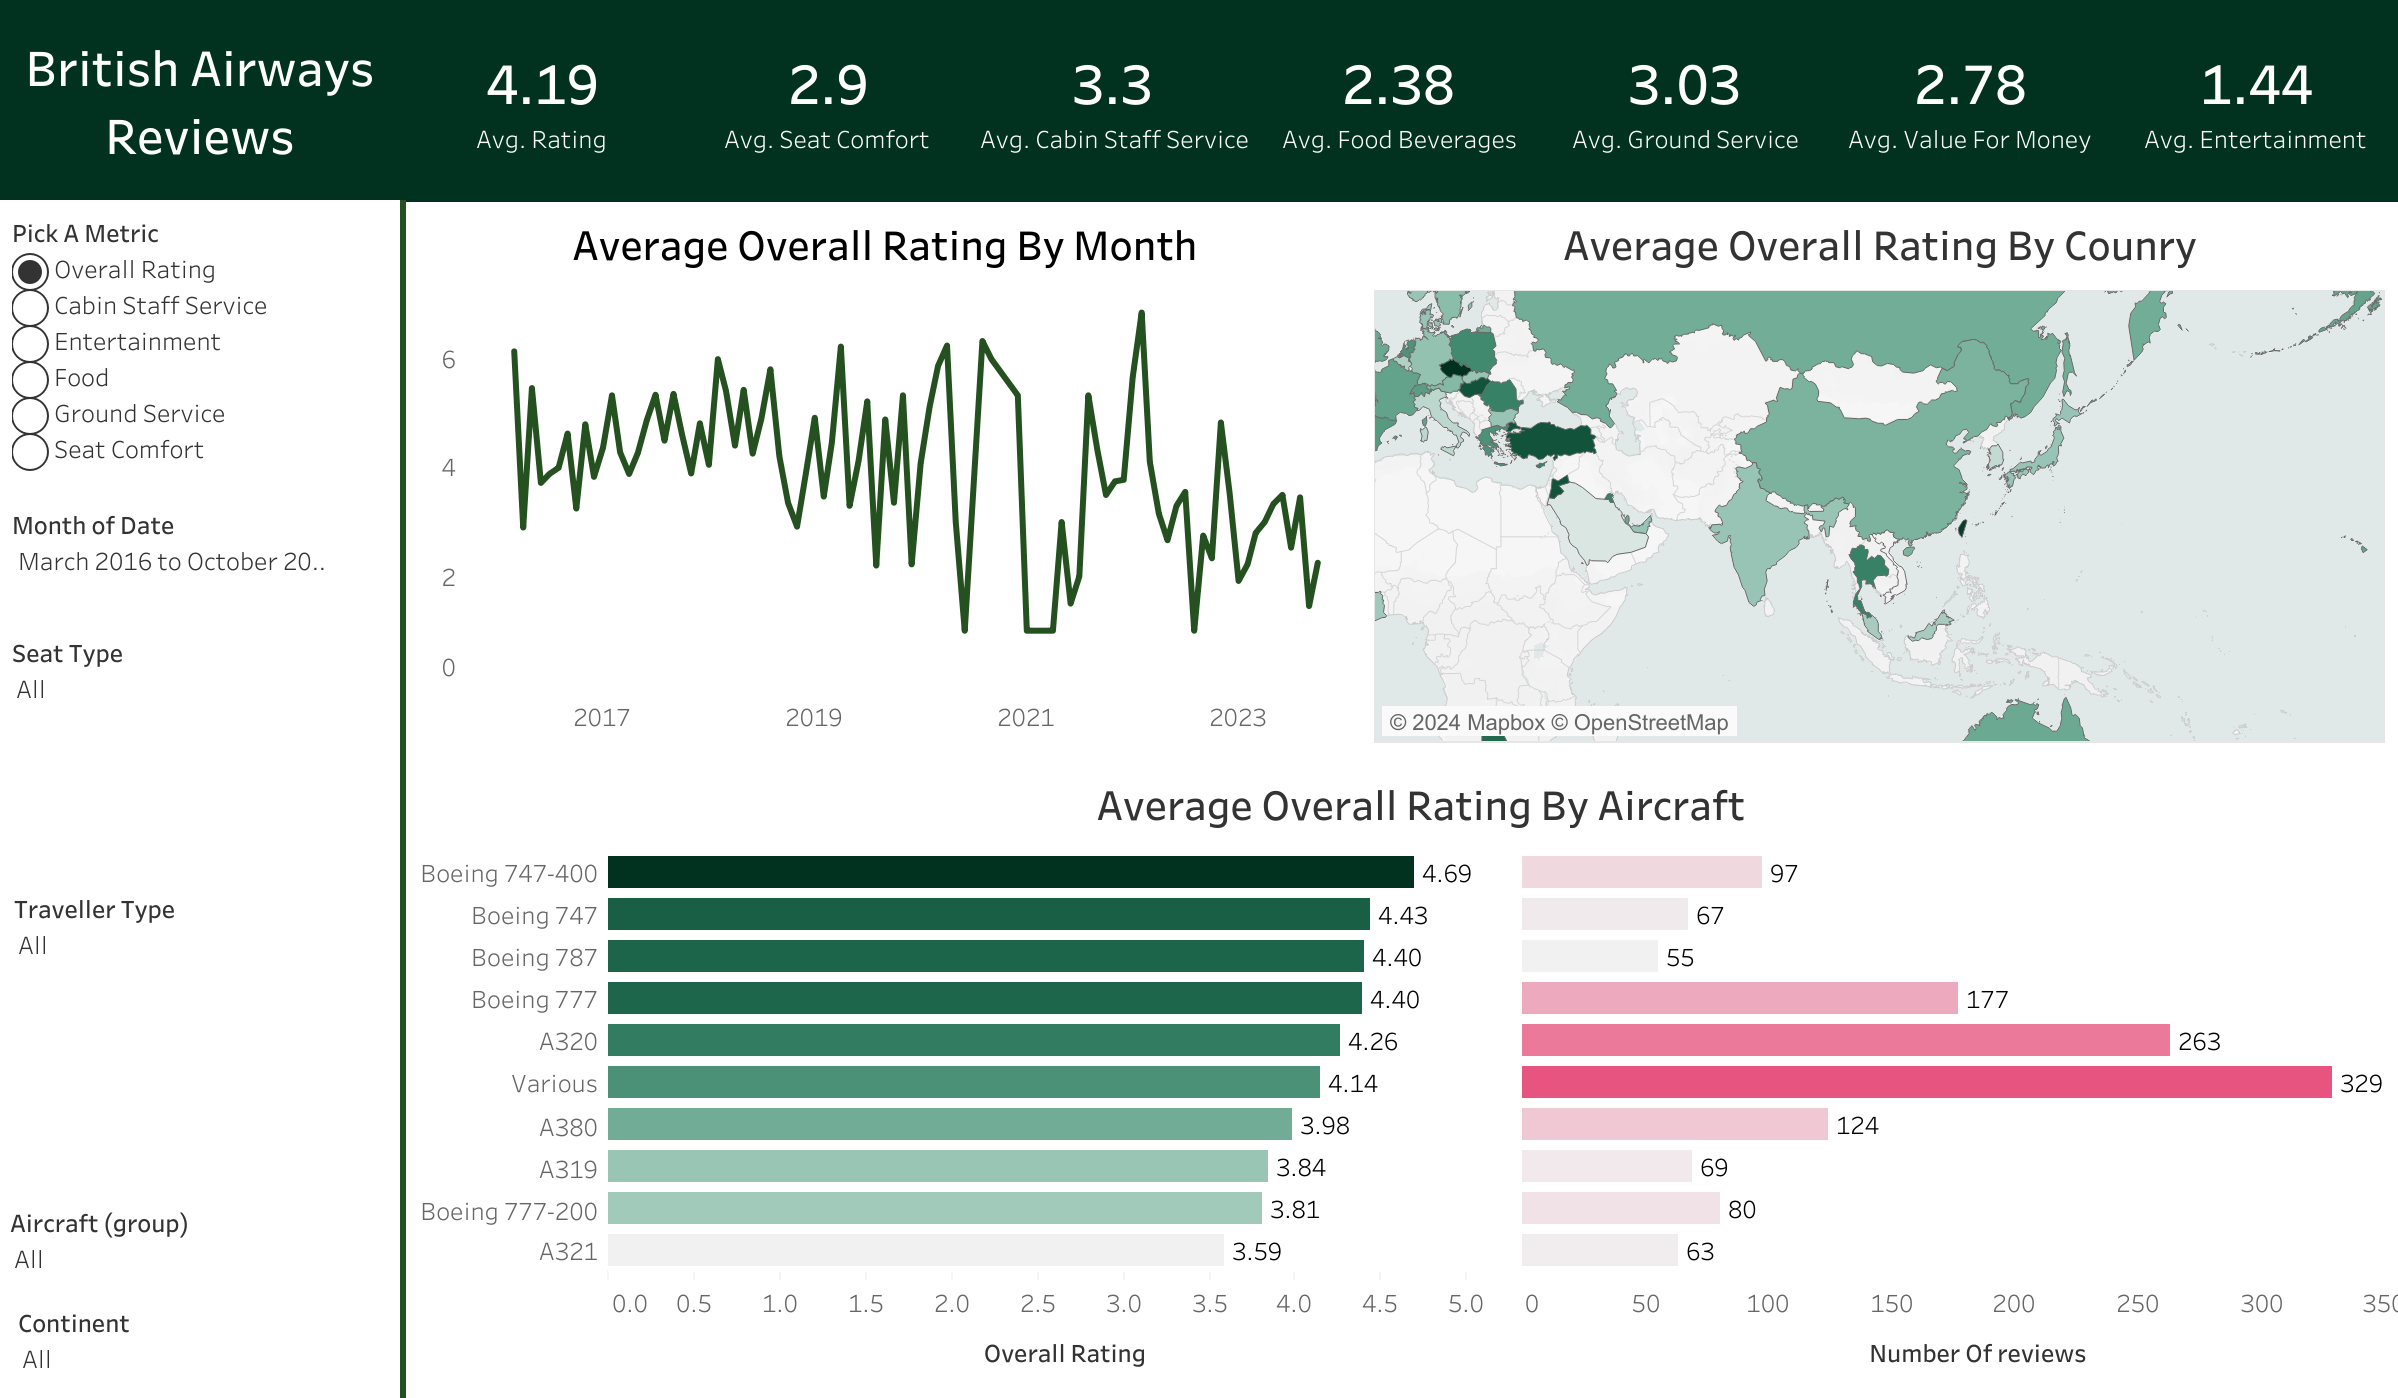

The page's visual inventory and layout, read from the dashboard file:
{"tool":"tableau","page":{"name":"Dashboard 1","canvas":[1200,700],"ordinal":0},"visuals":[{"type":"text","box":[0,0,200,100]},{"type":"worksheet","title":"Summary","mark":"Automatic","box":[200,0,1000,100]},{"type":"blank","box":[200,100,3,600]},{"type":"worksheet","title":"Month","mark":"Automatic","rows":["Calculation_624874470221983744"],"cols":["date"],"box":[205,102,475,270]},{"type":"worksheet","title":"Map","mark":"Automatic","box":[687,102,506,270]},{"type":"parameter","param":"[Parameters].[Parameter 1]","box":[6,106,160,138]},{"type":"filter","title":"Map","param":"[federated.0y9f82l1yrbupt13smqne1ilagk0].[tmn:date:qk]","box":[6,252,160,61]},{"type":"filter","title":"Map","param":"[federated.0y9f82l1yrbupt13smqne1ilagk0].[none:seat_type:nk]","box":[6,316,168,127]},{"type":"filter","title":"Map","param":"[federated.0y9f82l1yrbupt13smqne1ilagk0].[none:traveller_type:nk]","box":[7,444,168,146]},{"type":"filter","title":"Map","param":"[federated.0y9f82l1yrbupt13smqne1ilagk0].[Aircraft (group)]","box":[5,601,160,44]},{"type":"filter","title":"Map","param":"[federated.0y9f82l1yrbupt13smqne1ilagk0].[none:Continent:nk]","box":[9,651,160,44]}]}

Visuals, with their boxes in screenshot pixels (x1, y1, x2, y2), scaled from the page's 1200x700 canvas onto the 2398x1398 screenshot:
text: 0/0/400/200
"Summary" worksheet: 400/0/2397/200
blank: 400/200/406/1397
"Month" worksheet: 410/204/1359/743
"Map" worksheet: 1373/204/2384/743
parameter: 12/212/332/487
"Map" filter: 12/503/332/625
"Map" filter: 12/631/348/885
"Map" filter: 14/887/350/1178
"Map" filter: 10/1200/330/1288
"Map" filter: 18/1300/338/1388
